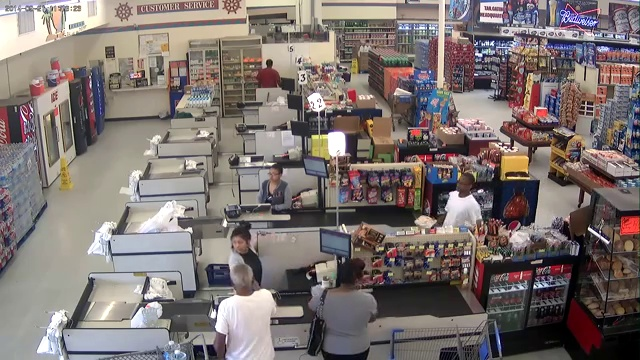face: (231, 236, 247, 254), (456, 178, 471, 196), (268, 166, 280, 181)
